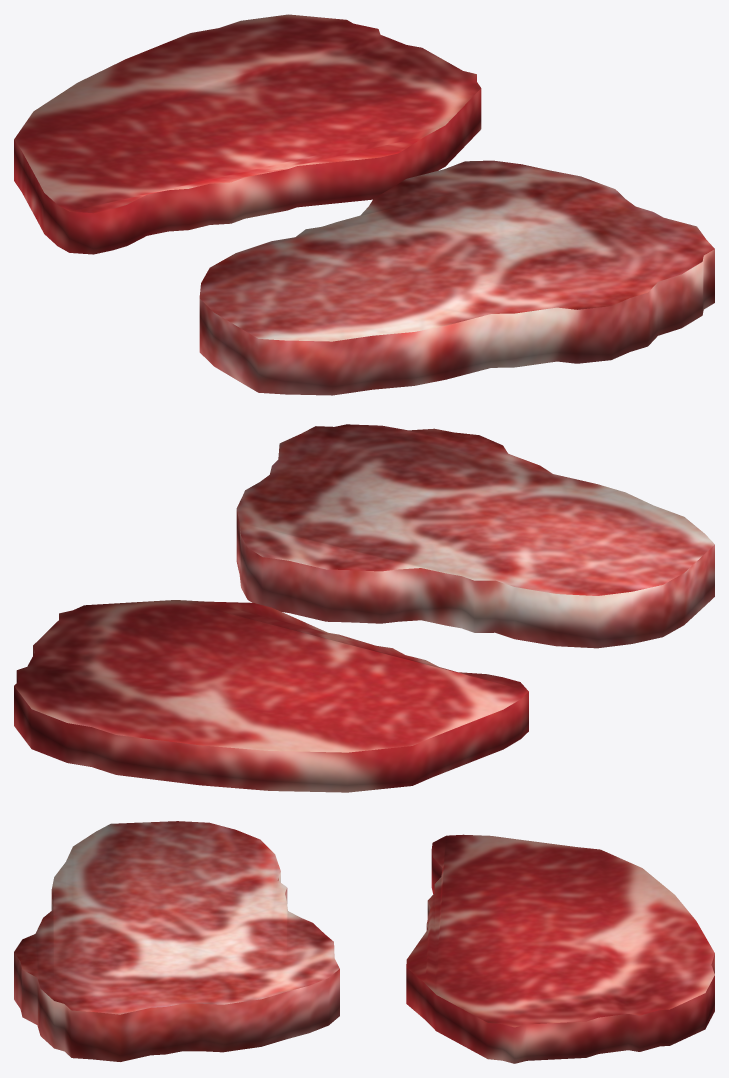
The model's file is psx_raw_meat_pack__low-poly_2_types.glb.
3 views of the same model, one above another, from view 1: azimuth 30°, elevation 25°; view 2: azimuth 150°, elevation 25°; view 3: azimuth 270°, elevation 25° (orthographic). The views are drawn at different scales.
Parts seen in each view (by area): view 1: Meat, Meat2; view 2: Meat, Meat2; view 3: Meat, Meat2.
Part boxes in pixels (x1,y1,x2,y2): Meat: (199, 160, 714, 395); Meat2: (14, 14, 481, 254); Meat: (236, 424, 714, 648); Meat2: (14, 600, 528, 792); Meat: (14, 821, 339, 1061); Meat2: (406, 834, 714, 1063).
Size of the model in its own units: 12 by 1.36 by 18.2.
2 materials, 2 textured.
